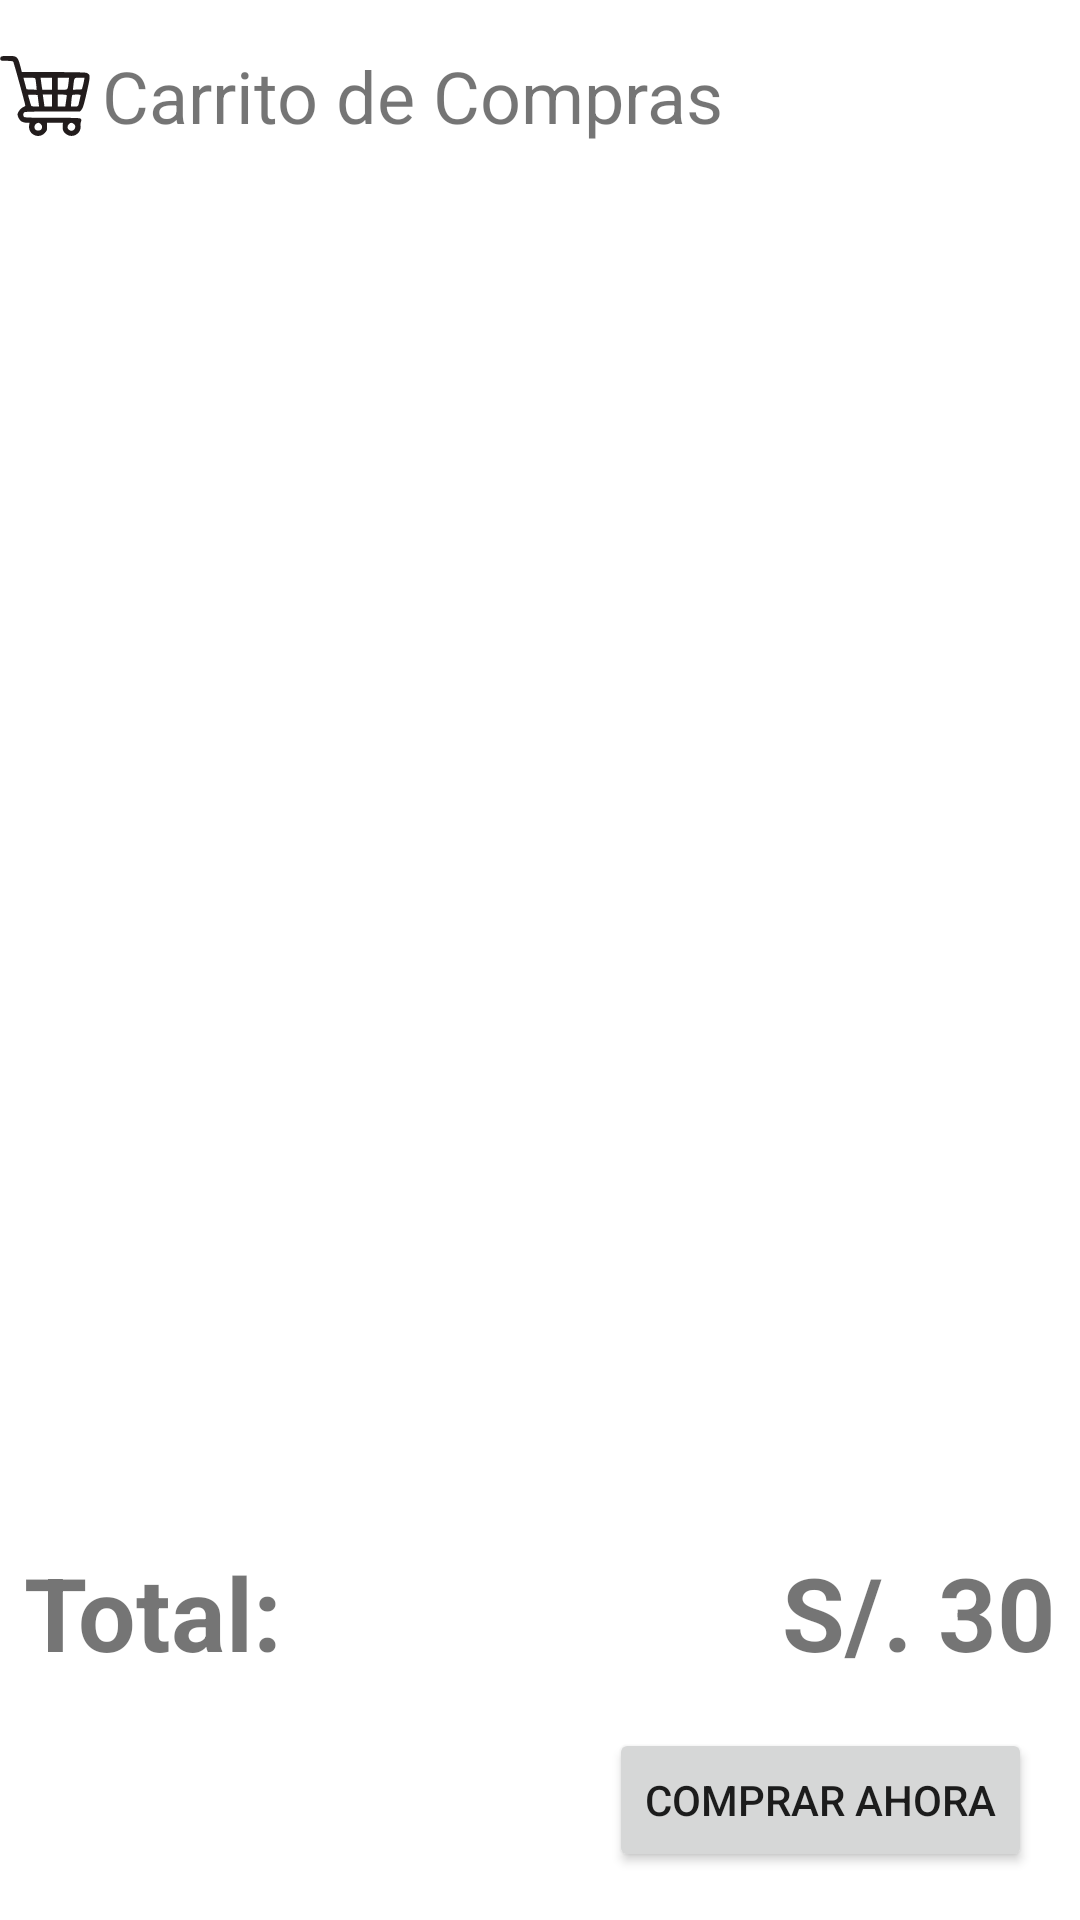

Screen size 1080w x 1920h. Icon name, then its box in pixels as (x1, y1, x2, y2):
cart: (0, 56, 90, 136)
